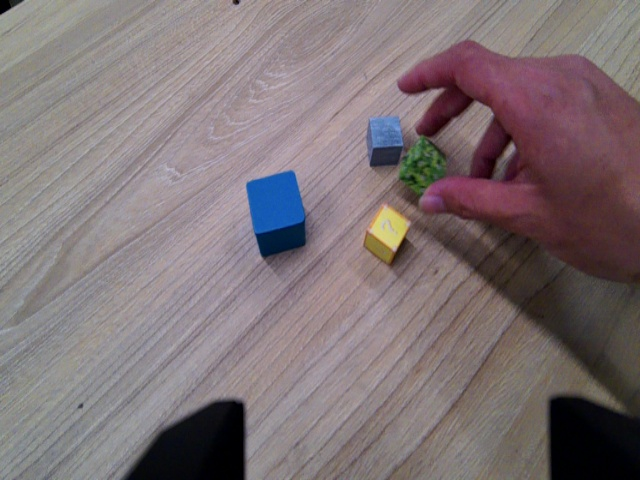grass: (399, 134, 449, 200)
lucky: (361, 202, 414, 269)
stone: (357, 110, 404, 169)
